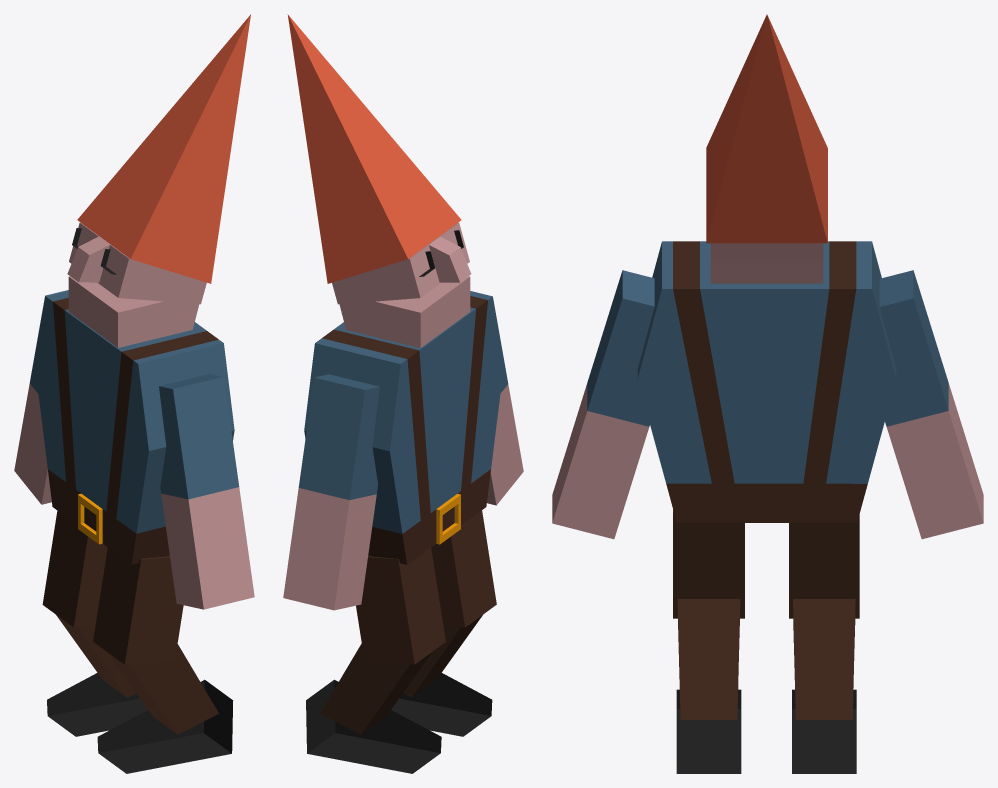
File: gnome_model.fbx
3 renders of one model, left to right at view 1: azimuth 30°, elevation 25°; view 2: azimuth 150°, elevation 25°; view 3: azimuth 270°, elevation 25°, orthographic. The views are drawn at different scales.
Parts seen in each view (by area): view 1: Cube.002; view 2: Cube.002; view 3: Cube.002.
Part boxes in pixels (<box>): Cube.002: <box>14,14,254,773</box>; Cube.002: <box>283,14,523,773</box>; Cube.002: <box>552,14,983,773</box>.
Bounding box in the file's own units: 0.7005 × 2.62 × 1.29.
